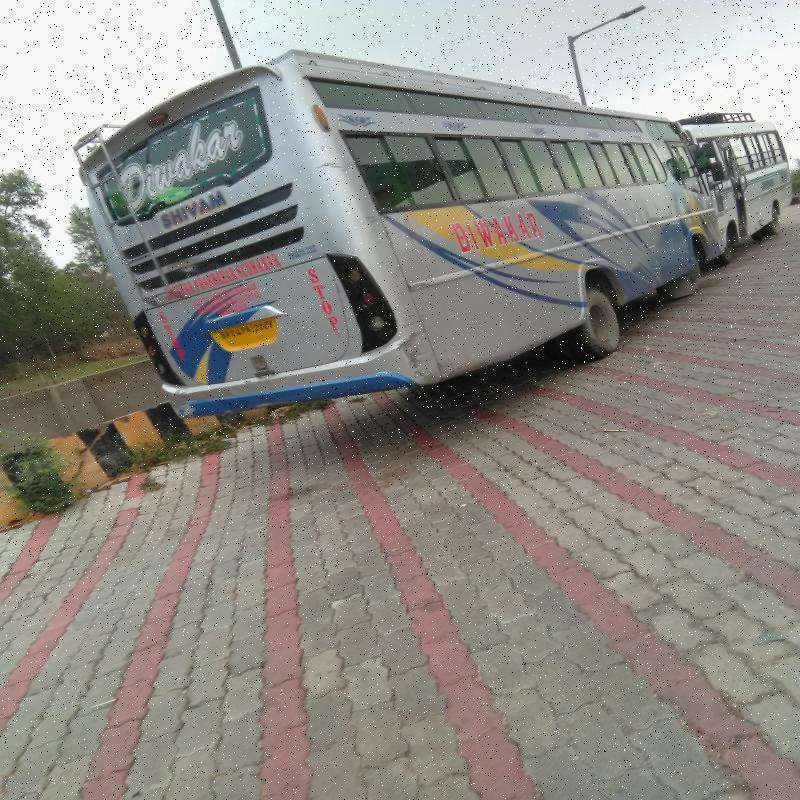bus: (77, 47, 739, 411)
